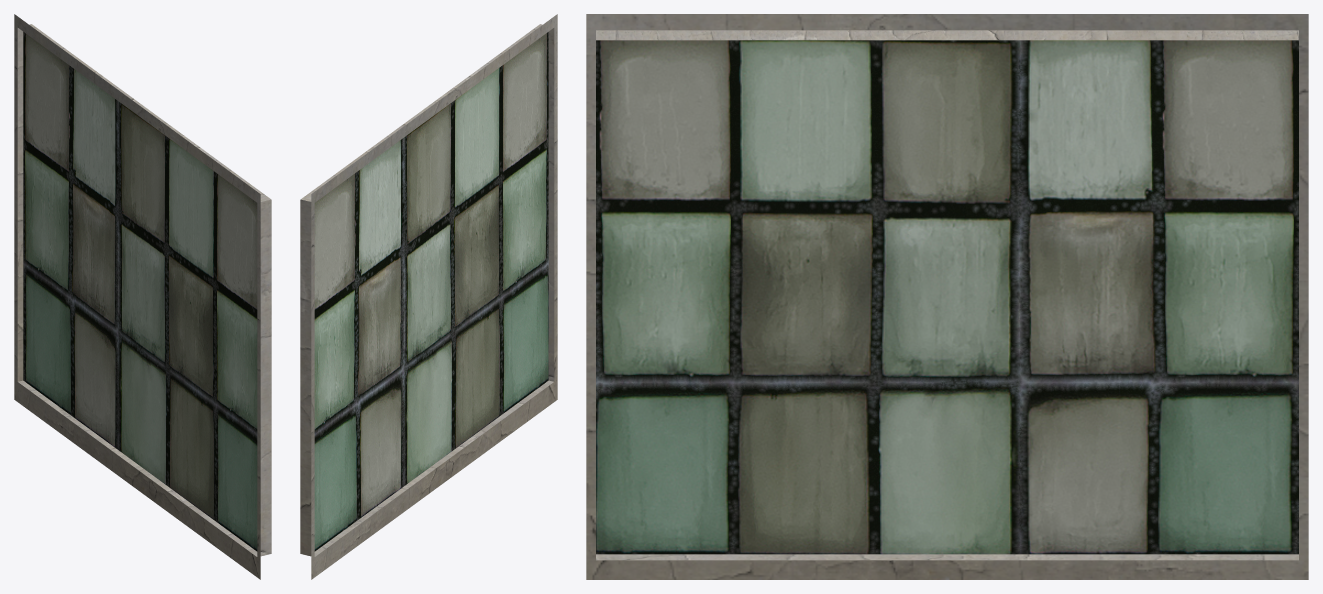
File: Window_Medium.fbx
3 views of the same model, side by side, from view 1: azimuth 30°, elevation 25°; view 2: azimuth 150°, elevation 25°; view 3: azimuth 270°, elevation 25° (orthographic). The views are drawn at different scales.
Parts seen in each view (by area): view 1: Window_Medium; view 2: Window_Medium; view 3: Window_Medium.
Part boxes in pixels (x1,y1,x2,y2): Window_Medium: (14,14,271,579); Window_Medium: (300,14,557,579); Window_Medium: (586,14,1308,579).
Bounding box in the file's own units: 0.0406 × 1.06 × 1.23.
